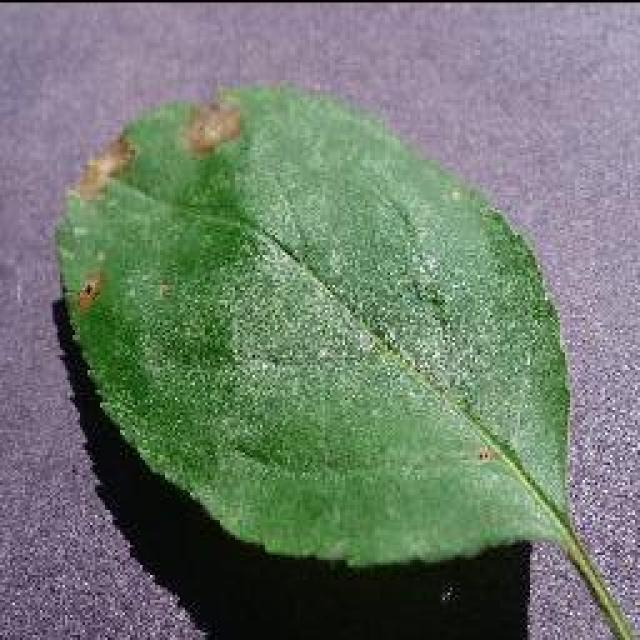Black_rot: (52, 78, 638, 638)
